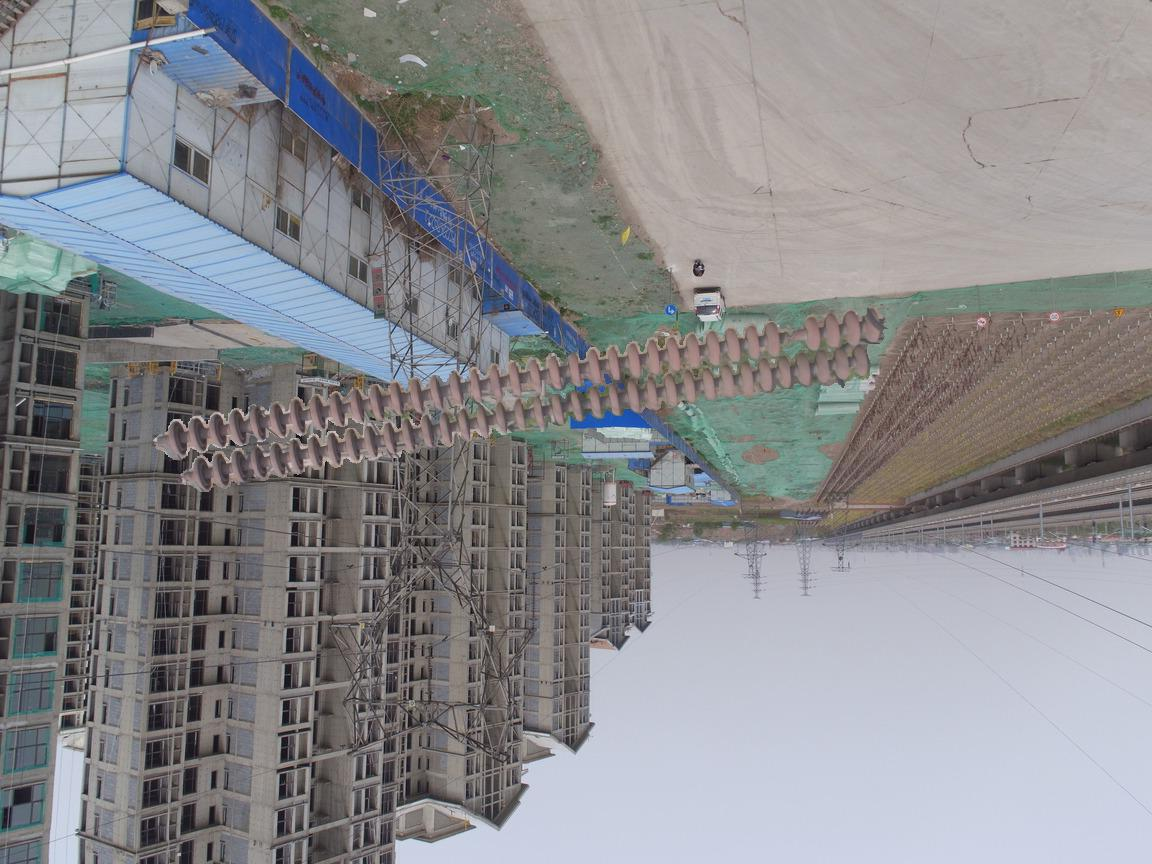insulator: (159, 300, 893, 495)
insulator_stringdrop: (762, 314, 824, 359)
